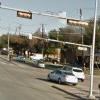Car: (45, 63, 84, 87)
